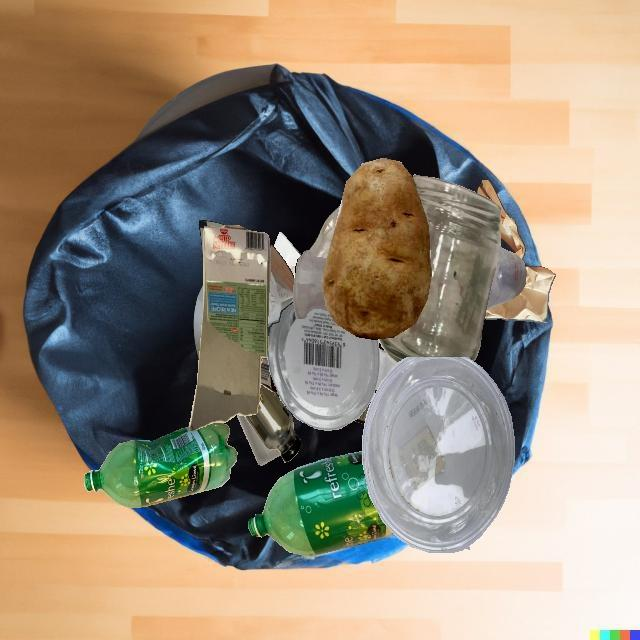biowaste: (322, 158, 432, 340)
cardboard: (189, 225, 271, 432), (354, 390, 377, 425), (260, 359, 278, 394)
glass: (379, 175, 501, 363), (244, 383, 302, 463), (293, 250, 328, 319), (309, 204, 341, 258)
paper: (198, 226, 268, 320), (484, 266, 556, 323), (477, 180, 525, 260), (268, 245, 295, 323), (274, 232, 302, 279), (375, 348, 398, 390)
plastic: (362, 357, 514, 553), (248, 451, 394, 557), (267, 302, 380, 431), (84, 422, 237, 508), (486, 247, 526, 310), (237, 414, 281, 466), (260, 354, 268, 364)
